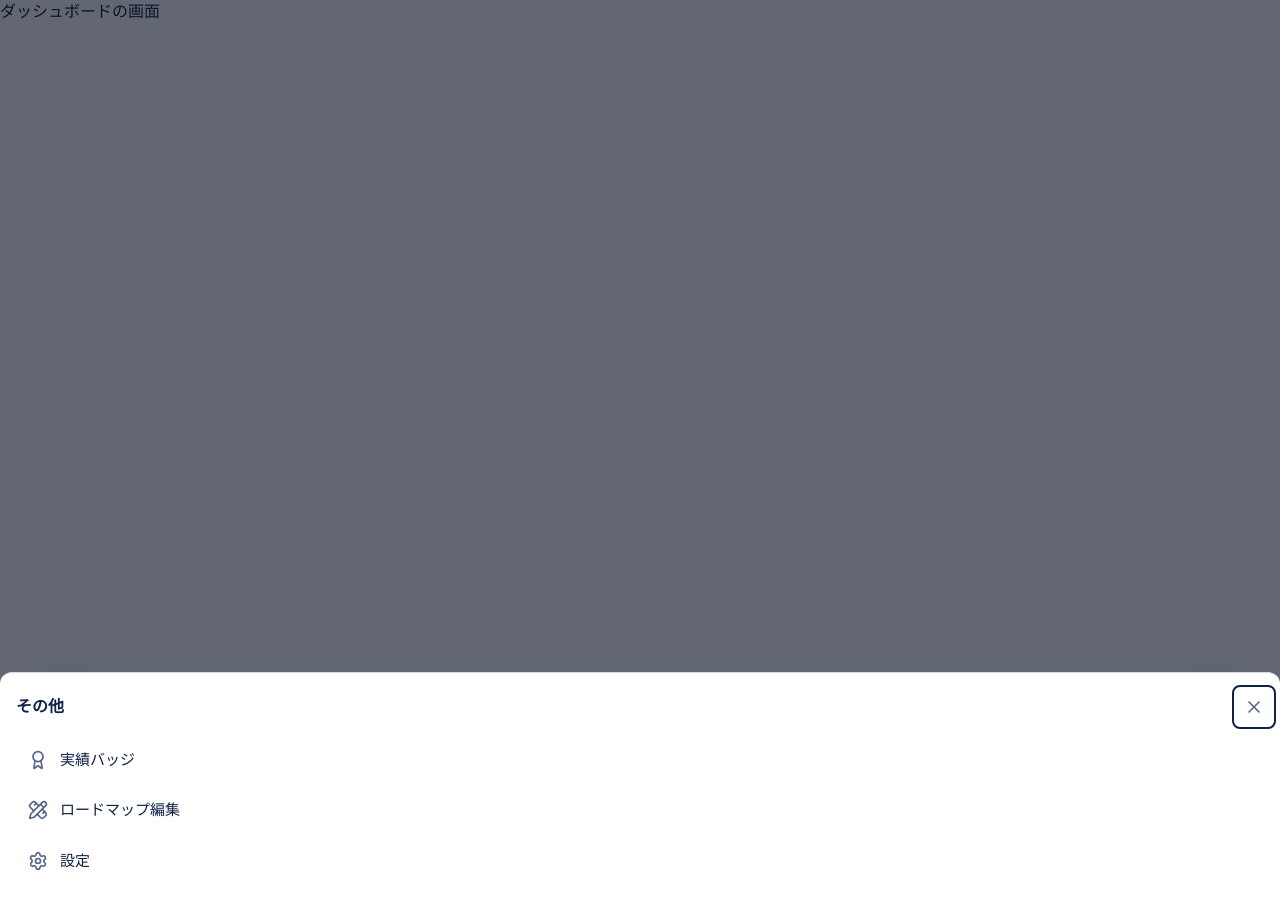
Scenario: BottomNav › 閉じるボタンでメニューを閉じる
Earlier steps of the test are not shown.
What coordinates should you click on to do the following:
click the button named "閉じる"
I would click on:
 (1254, 706)
Its box is [1236,688,1272,724].
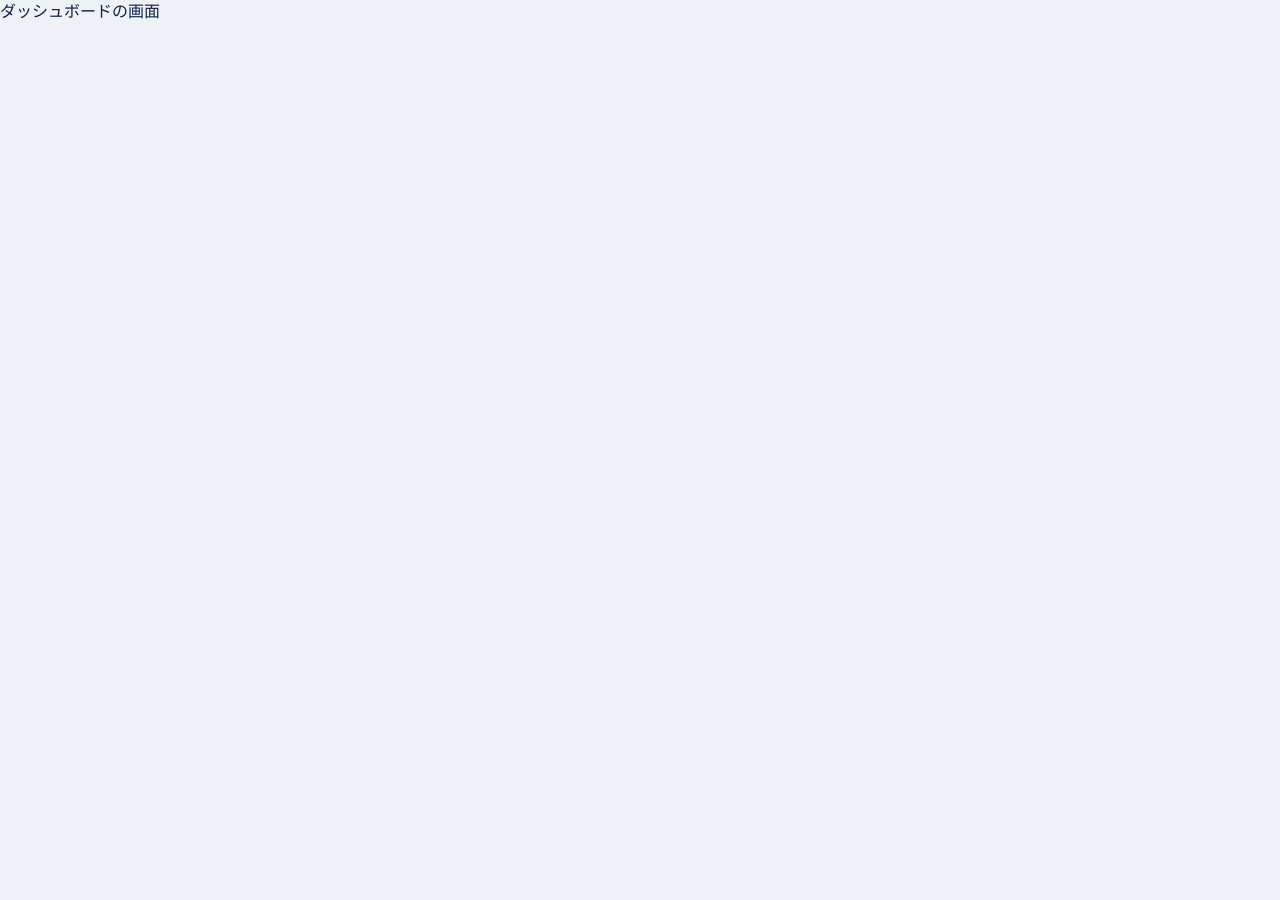
expect the text "ダッシュボードの画面" is shown: met, box [0,3,160,20]
expect the dialog is gone: met
